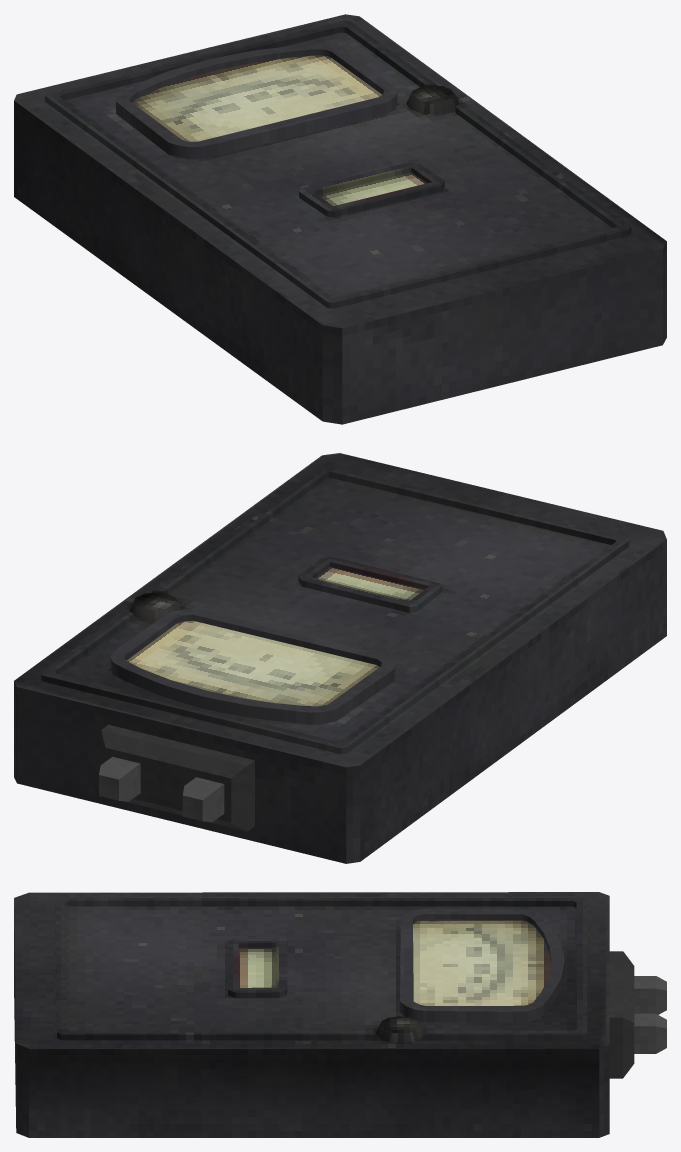
Rendered from dosimeter_4.glb.
3 views of the same model, one above another, from view 1: azimuth 30°, elevation 25°; view 2: azimuth 150°, elevation 25°; view 3: azimuth 270°, elevation 25° (orthographic). The views are drawn at different scales.
Visible parts, largest first — view 1: dosimeter_4; view 2: dosimeter_4; view 3: dosimeter_4.
Boxes of the visible parts, x1,y1,x2,y2 form: dosimeter_4: (14,14,666,424); dosimeter_4: (14,453,666,863); dosimeter_4: (14,892,666,1137).
Size of the model in its own units: 0.1502 by 0.045 by 0.2649.
Materials: 1 (1 with a texture image).
